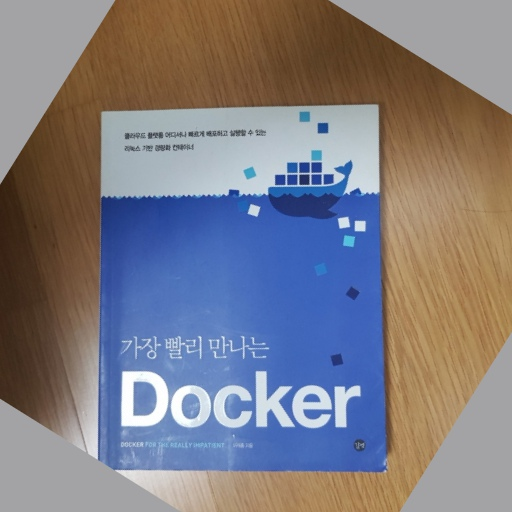Paper_0: (95, 99, 395, 480)
